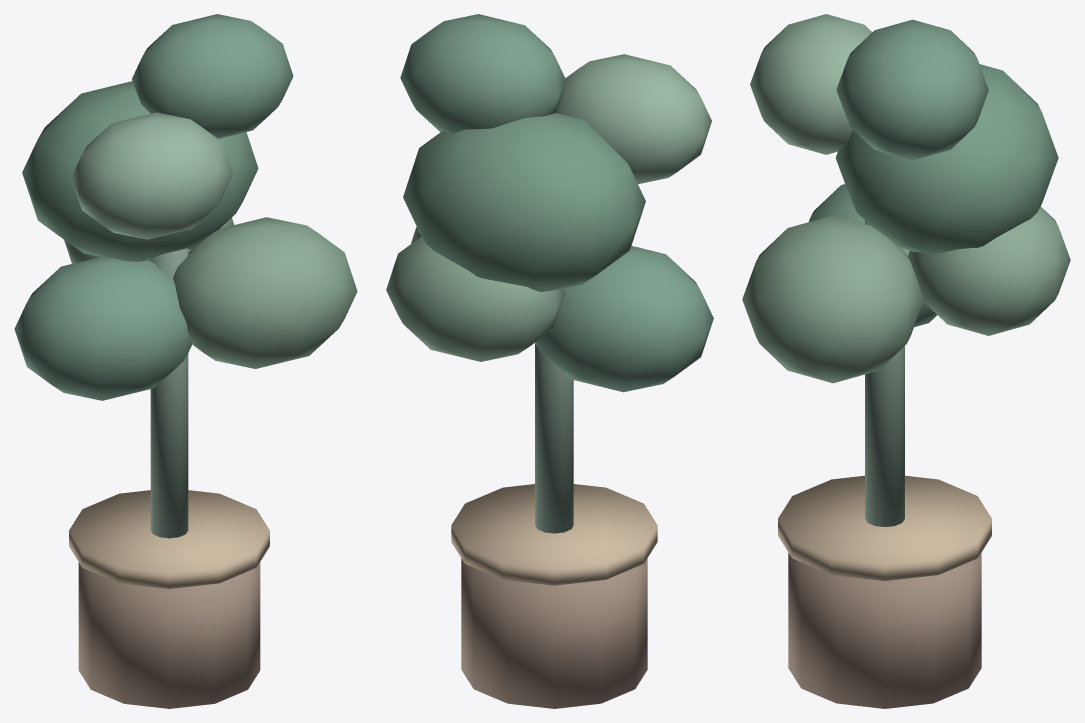
The model's file is f3a-plant.glb.
3 views of the same model, side by side, from view 1: azimuth 30°, elevation 25°; view 2: azimuth 150°, elevation 25°; view 3: azimuth 270°, elevation 25° (orthographic). The views are drawn at different scales.
Visible parts, largest first — view 1: f3a-plant-part-000, f3a-plant-part-004, f3a-plant-part-003, f3a-plant-part-006, f3a-plant-part-001, f3a-plant-part-007, f3a-plant-part-005, f3a-plant-part-002; view 2: f3a-plant-part-005, f3a-plant-part-000, f3a-plant-part-003, f3a-plant-part-001, f3a-plant-part-007, f3a-plant-part-008, f3a-plant-part-006, f3a-plant-part-002; view 3: f3a-plant-part-000, f3a-plant-part-005, f3a-plant-part-004, f3a-plant-part-001, f3a-plant-part-007, f3a-plant-part-008, f3a-plant-part-006, f3a-plant-part-002, f3a-plant-part-003.
Part boxes in pixels (box(x1,y1,x2,y2)): f3a-plant-part-000: box(78, 562, 260, 708); f3a-plant-part-004: box(173, 217, 357, 368); f3a-plant-part-003: box(14, 257, 192, 400); f3a-plant-part-006: box(71, 112, 232, 239); f3a-plant-part-001: box(69, 490, 269, 588); f3a-plant-part-007: box(132, 14, 293, 138); f3a-plant-part-005: box(22, 81, 258, 261); f3a-plant-part-002: box(150, 248, 188, 538); f3a-plant-part-005: box(403, 113, 645, 291); f3a-plant-part-000: box(461, 558, 647, 708); f3a-plant-part-003: box(535, 246, 713, 392); f3a-plant-part-001: box(451, 484, 657, 585); f3a-plant-part-007: box(400, 14, 566, 132); f3a-plant-part-008: box(386, 236, 564, 361); f3a-plant-part-006: box(556, 54, 711, 183); f3a-plant-part-002: box(535, 343, 573, 533); f3a-plant-part-000: box(788, 553, 981, 708); f3a-plant-part-005: box(835, 64, 1058, 254); f3a-plant-part-004: box(742, 215, 923, 383); f3a-plant-part-001: box(778, 475, 991, 580); f3a-plant-part-007: box(836, 19, 988, 160); f3a-plant-part-008: box(908, 206, 1070, 335); f3a-plant-part-006: box(750, 14, 871, 154); f3a-plant-part-002: box(865, 220, 904, 526); f3a-plant-part-003: box(809, 184, 936, 327).
Size of the model in its own units: 1.07 by 2.13 by 0.9515.
